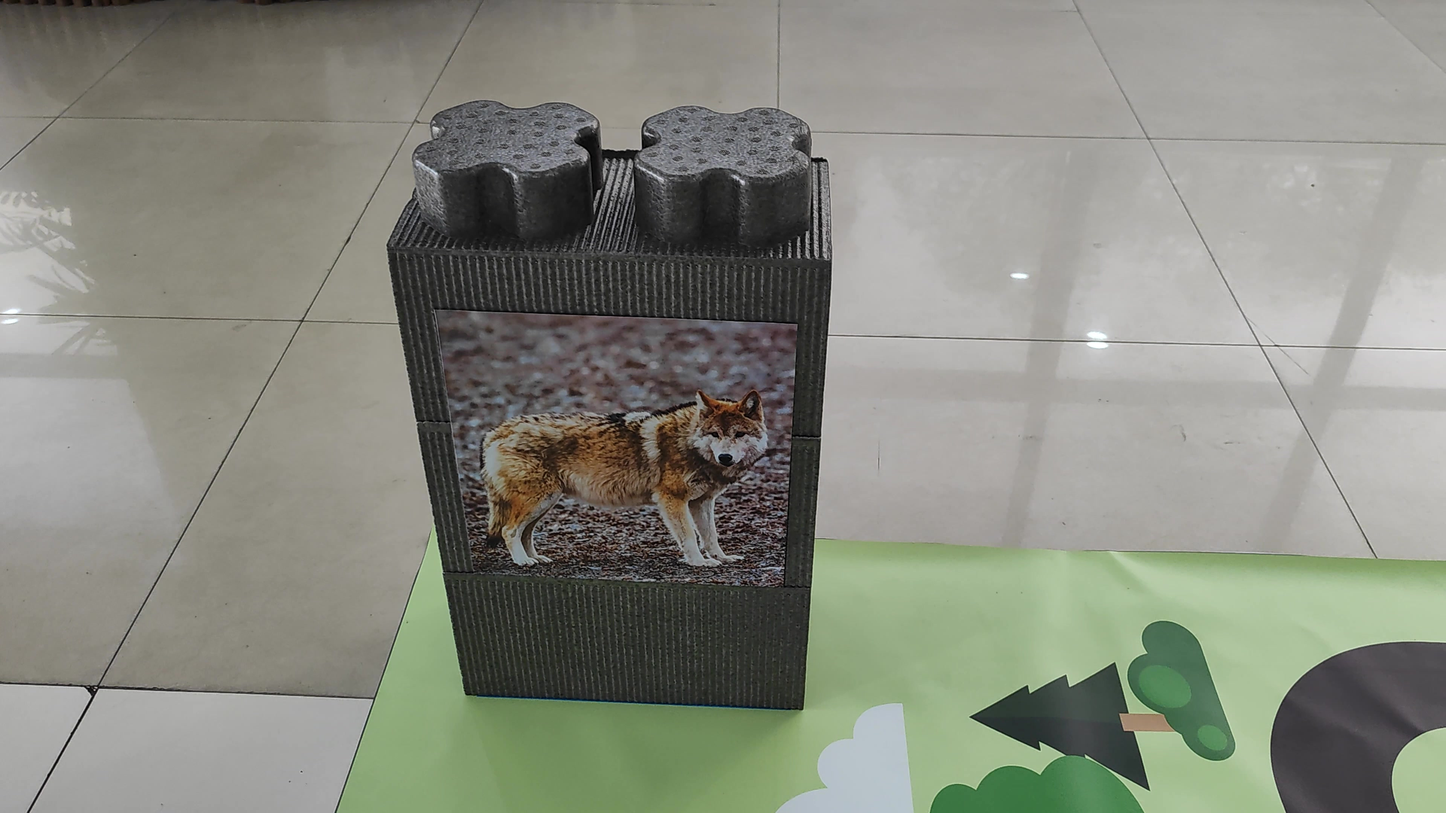wolf: (465, 377, 772, 573)
